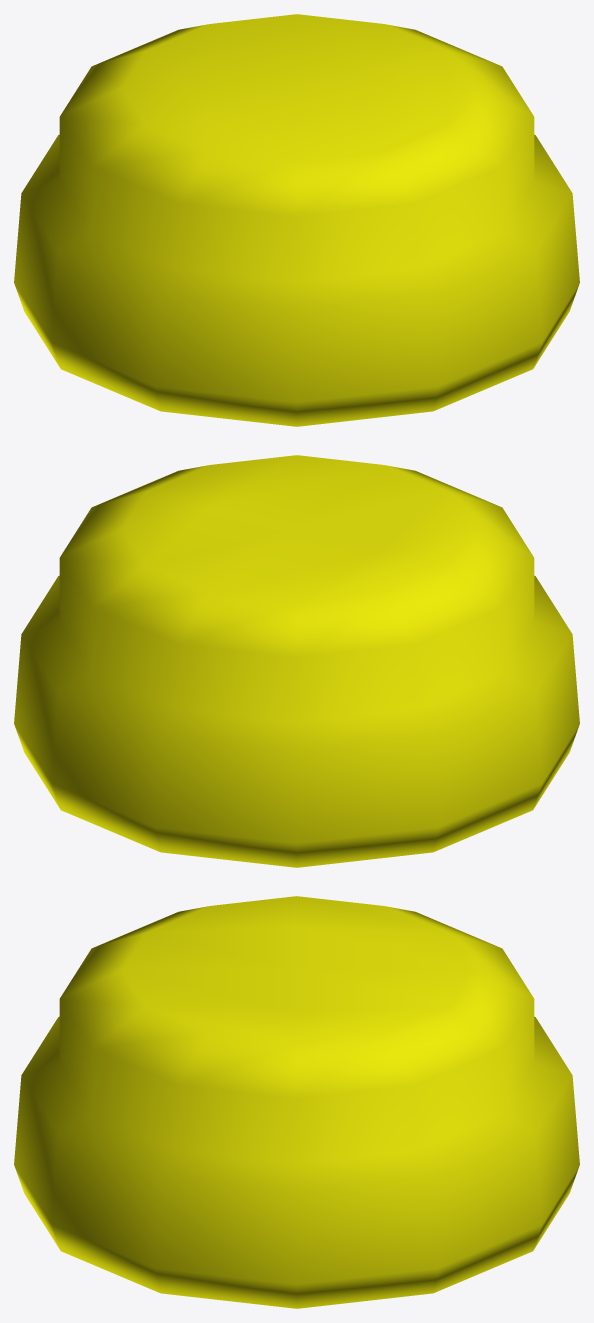
File: B_Pillar_02_A.fbx
3 views of the same model, one above another, from view 1: azimuth 30°, elevation 25°; view 2: azimuth 150°, elevation 25°; view 3: azimuth 270°, elevation 25° (orthographic).
Visible parts, largest first — view 1: B_Pillar_02_A; view 2: B_Pillar_02_A; view 3: B_Pillar_02_A.
Boxes of the visible parts, bbox=[...] form: B_Pillar_02_A: bbox=[14, 14, 579, 426]; B_Pillar_02_A: bbox=[14, 455, 579, 867]; B_Pillar_02_A: bbox=[14, 896, 579, 1308].
Size of the model in its own units: 100 by 43.68 by 100.
